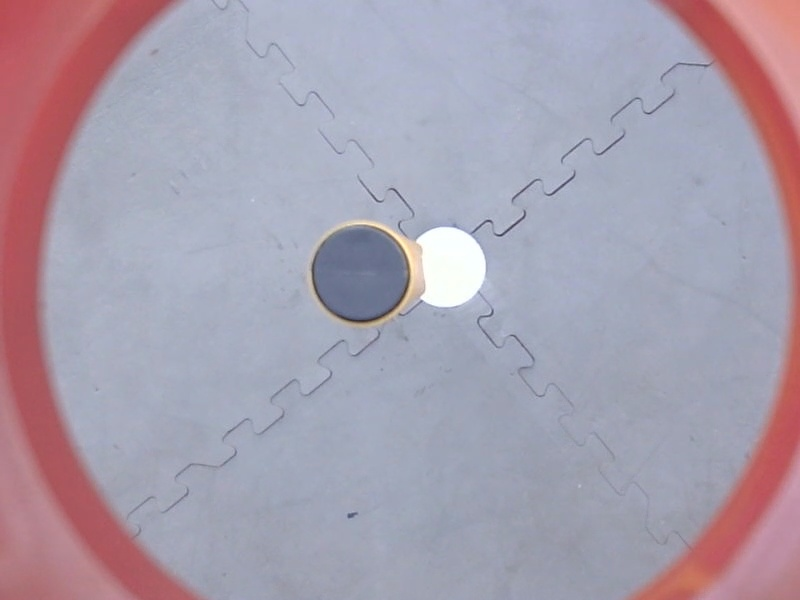tip: (304, 218, 420, 332)
